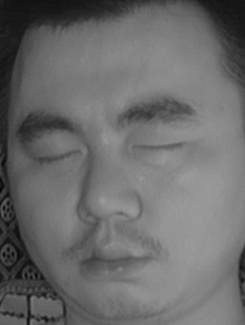blink: (131, 128, 184, 169), (33, 139, 82, 174)
mouth: (70, 232, 161, 287)
